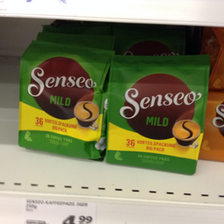coffee: (106, 54, 210, 175), (18, 39, 108, 161)
